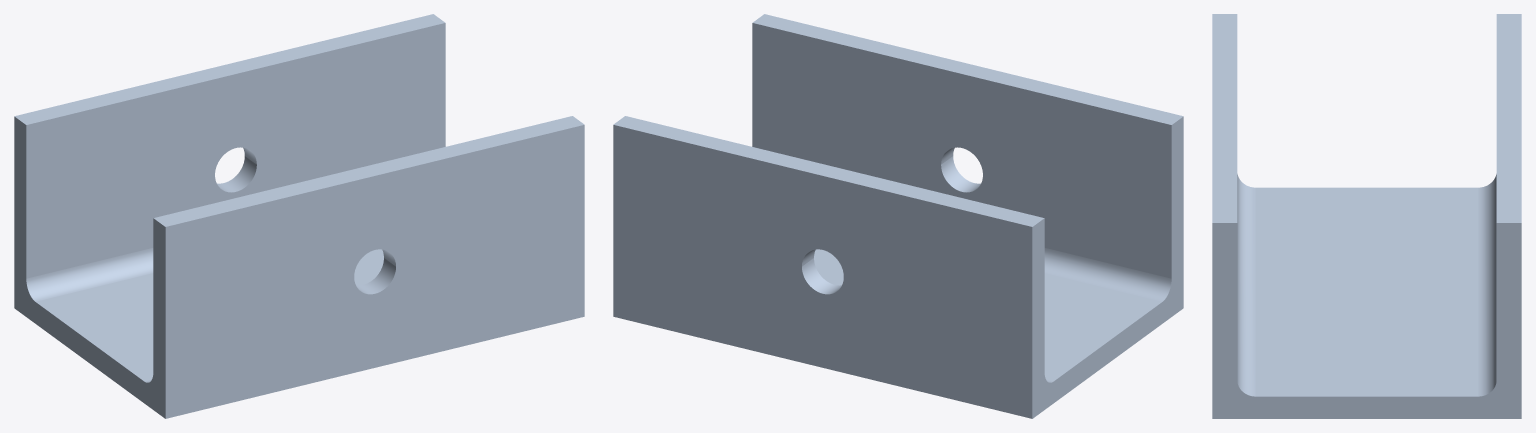
3 views of the same model, side by side, from view 1: azimuth 30°, elevation 25°; view 2: azimuth 150°, elevation 25°; view 3: azimuth 270°, elevation 25° (orthographic). The views are drawn at different scales.
Parts seen in each view (by area): view 1: part; view 2: part; view 3: part.
Part boxes in pixels (x1,y1,x2,y2): part: (14,14,584,418); part: (613,14,1183,418); part: (1212,14,1521,418).
Bounding box in the file's own units: 80 × 35 × 50.
